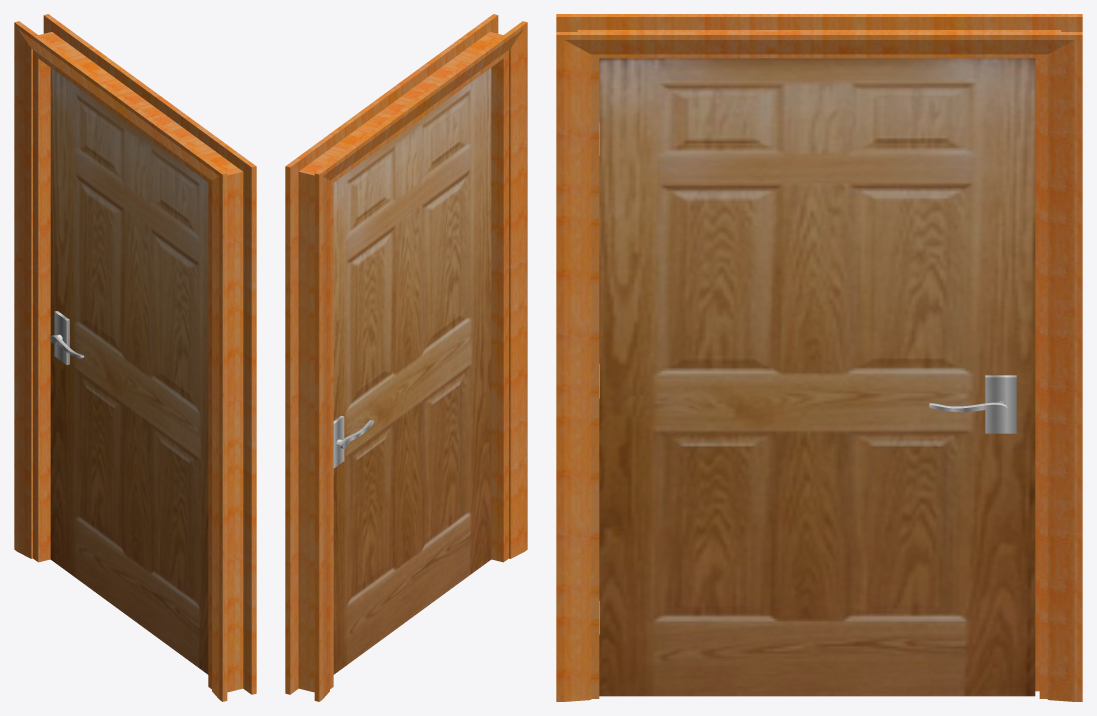
Rendered from door_36_inch_15jan24.glb.
The picture shows the model from 3 angles, left to right: view 1: azimuth 30°, elevation 25°; view 2: azimuth 150°, elevation 25°; view 3: azimuth 270°, elevation 25°; orthographic projection. The views are drawn at different scales.
Parts seen in each view (by area): view 1: Material2.002, Material2, Material3; view 2: Material2.002, Material2, Material3; view 3: Material2.002, Material2, Material3.
Boxes of the visible parts, <box> form: Material2.002: <box>50,68,208,674</box>; Material2: <box>14,14,256,701</box>; Material3: <box>50,311,84,364</box>; Material2.002: <box>333,68,491,674</box>; Material2: <box>285,14,527,701</box>; Material3: <box>333,416,373,468</box>; Material2.002: <box>599,58,1035,696</box>; Material2: <box>556,14,1082,701</box>; Material3: <box>929,375,1016,433</box>.
Bounding box in the file's own units: 0.2037 × 2.86 × 2.05.
Materials: 7 (6 with a texture image).
